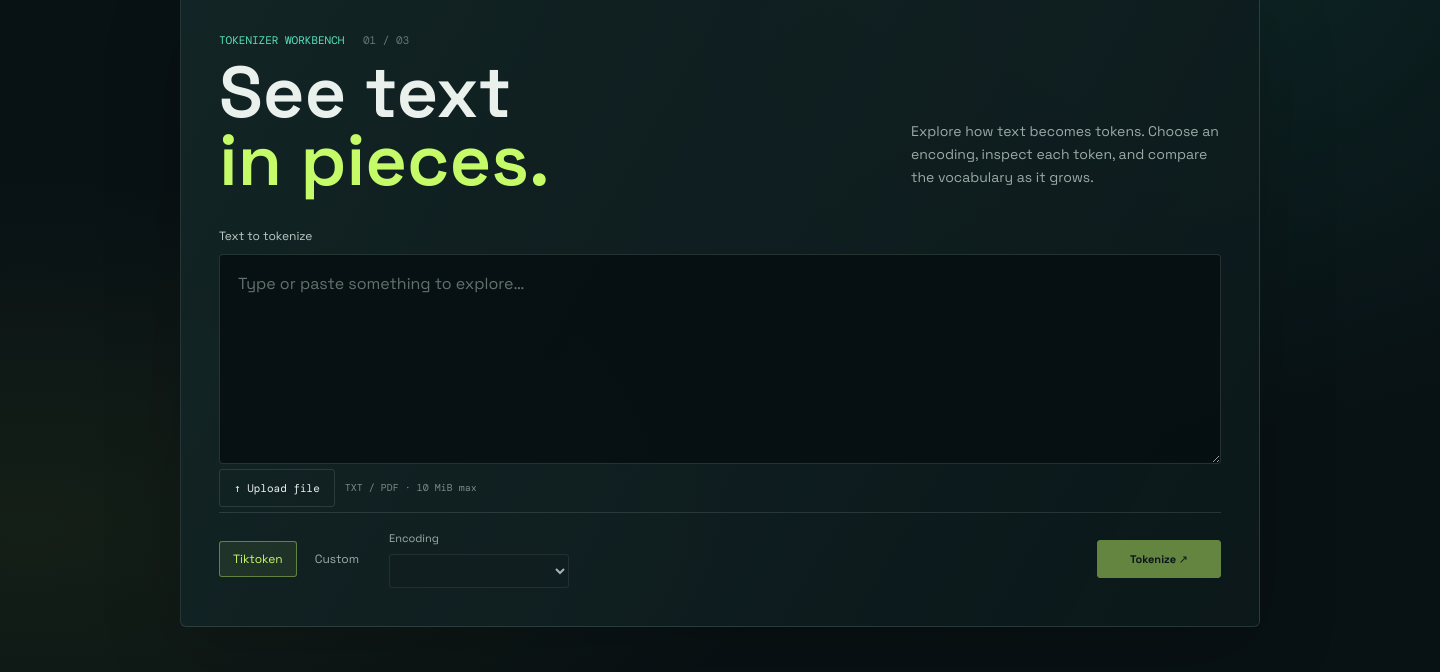
Test case: TokenizerWorkspace › submits entered text and shows tokens and statistics
Type "hello" into the text box labelled "Text to tokenize" at (720, 359), box [219,254,1221,464]
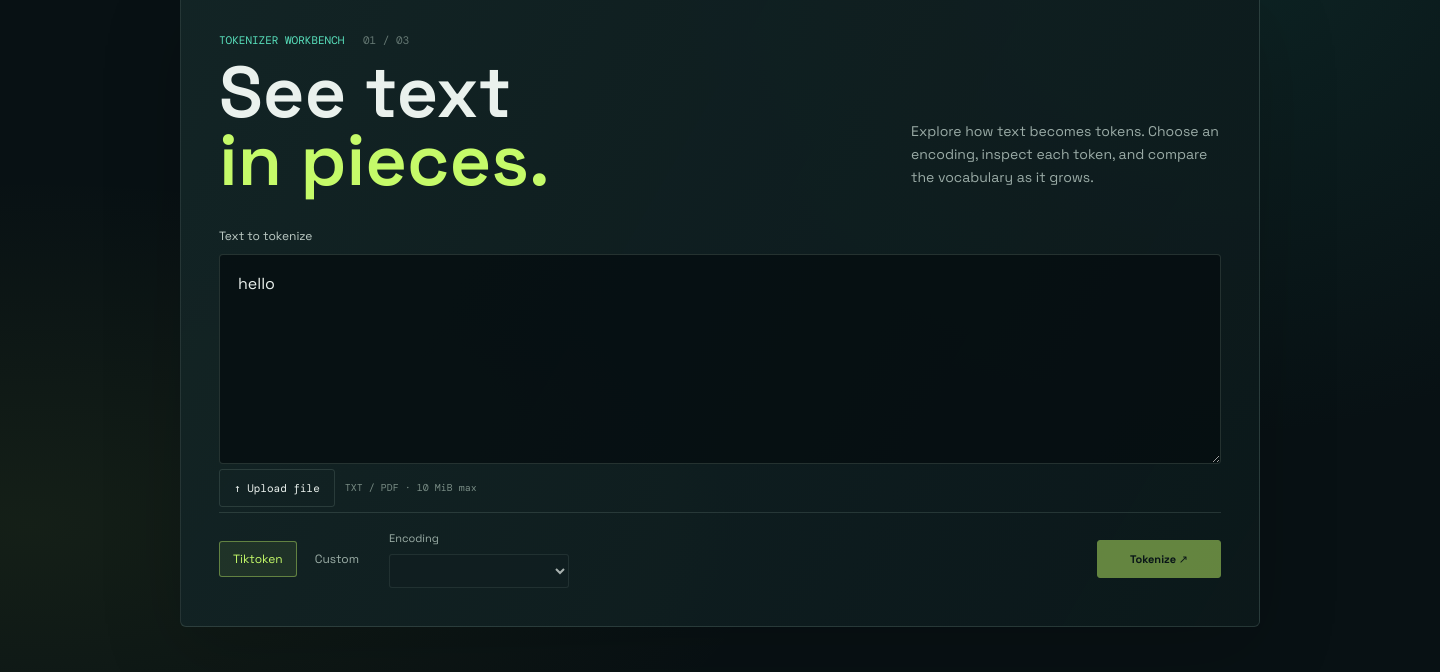
Click the radio button labelled "Custom" at (337, 559), box [315,551,359,567]
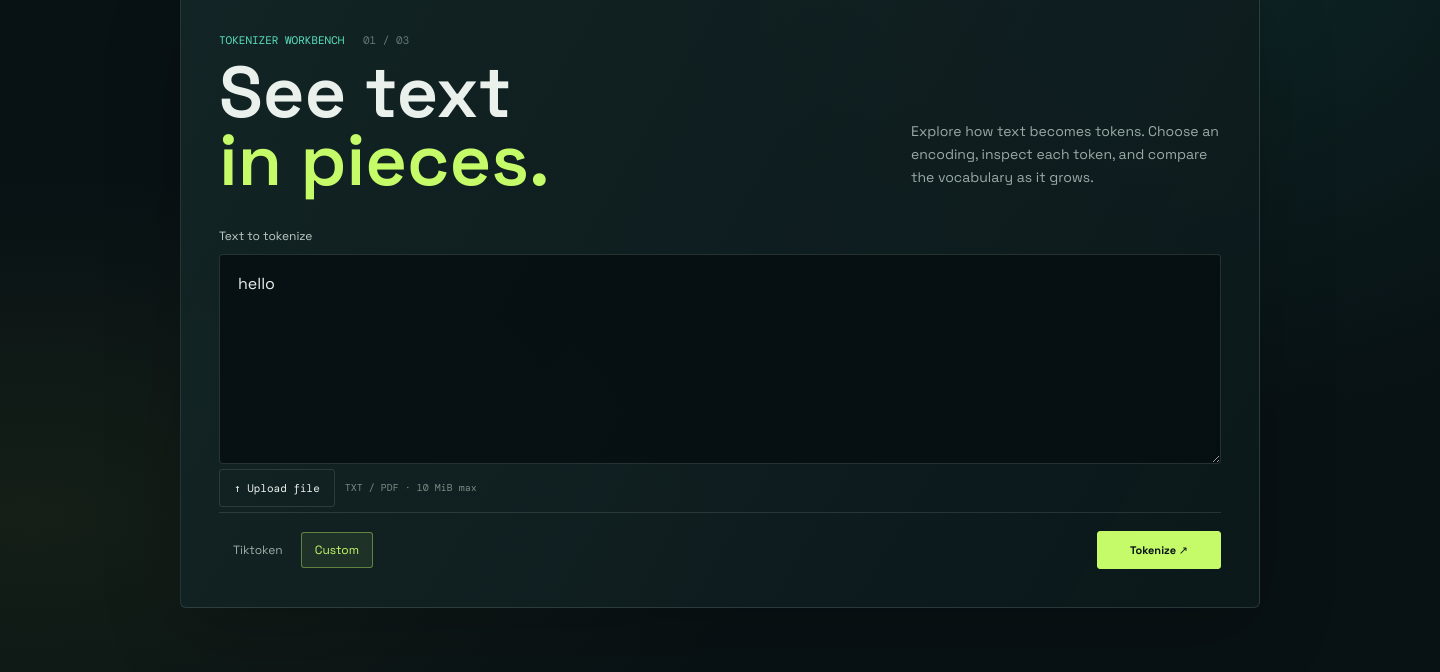
Click the button "Tokenize ↗" at (1159, 550), box [1097,531,1221,569]
(page scrolled)
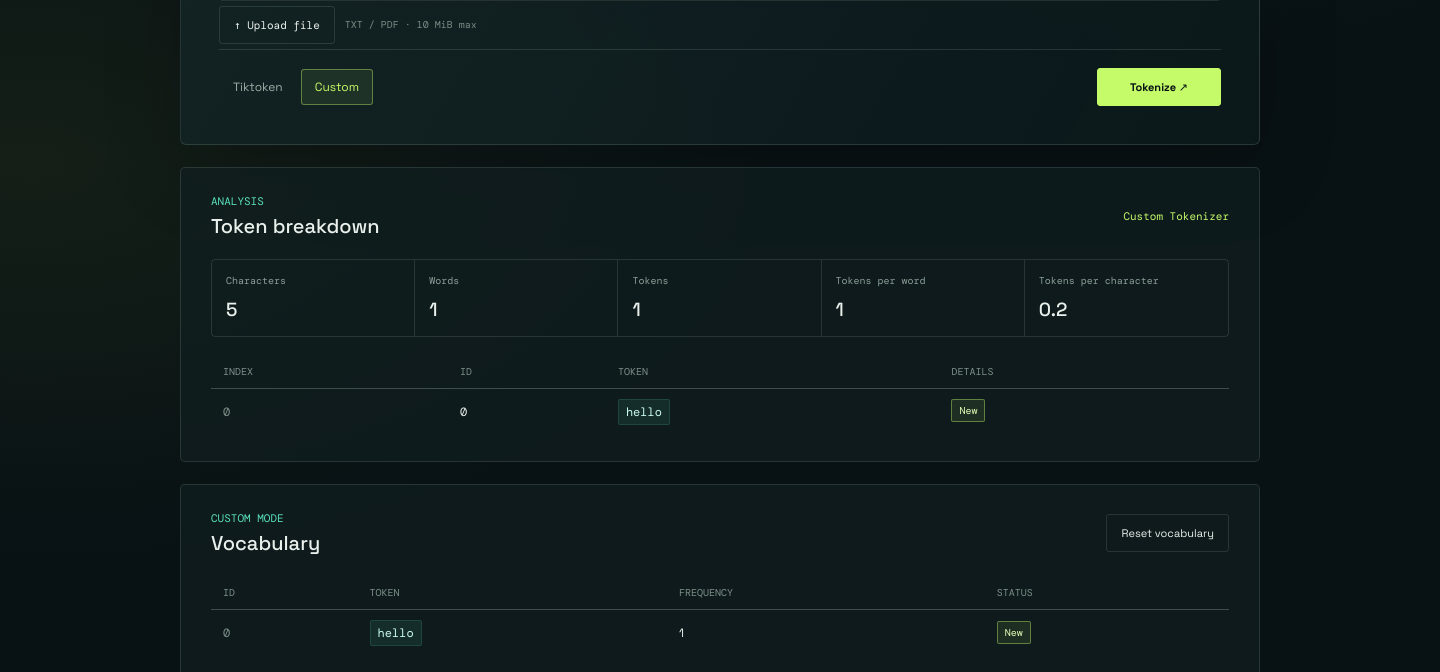
Check: the text "Tokens per character" is shown, box [1039,274,1159,287]
